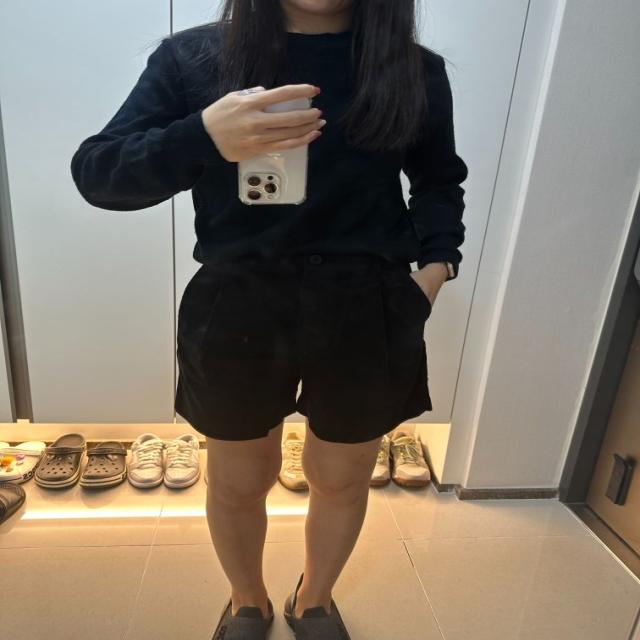longsleeve: (68, 21, 468, 275)
shortpants: (174, 248, 434, 444)
